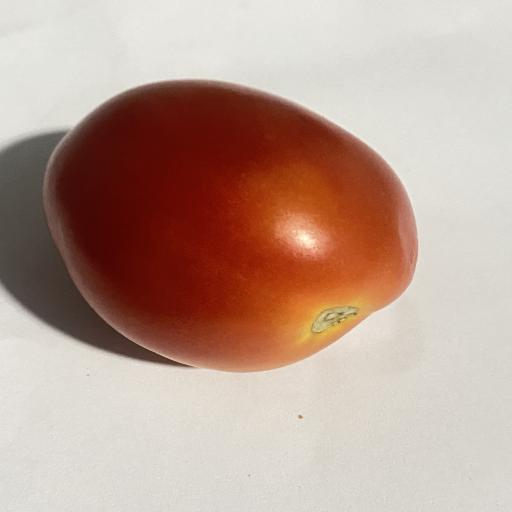ripe: (44, 80, 417, 372)
